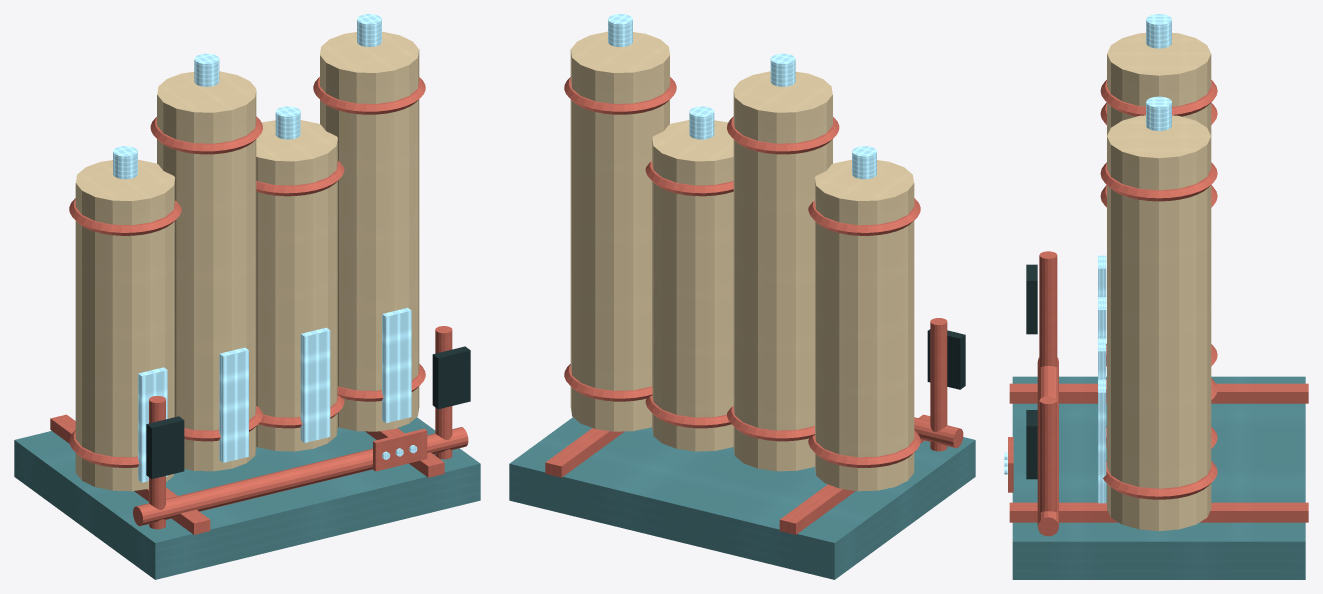
Rendered from atlas100-s072-a04.glb.
3 views of the same model, side by side, from view 1: azimuth 30°, elevation 25°; view 2: azimuth 150°, elevation 25°; view 3: azimuth 270°, elevation 25° (orthographic). The views are drawn at different scales.
Parts seen in each view (by area): view 1: atlas100-s072-a04:part-000, atlas100-s072-a04:part-018, atlas100-s072-a04:part-008, atlas100-s072-a04:part-003, atlas100-s072-a04:part-013, atlas100-s072-a04:part-027, atlas100-s072-a04:part-017, atlas100-s072-a04:part-022, atlas100-s072-a04:part-012, atlas100-s072-a04:part-024, atlas100-s072-a04:part-026, atlas100-s072-a04:part-007 (+17 smaller); view 2: atlas100-s072-a04:part-000, atlas100-s072-a04:part-008, atlas100-s072-a04:part-018, atlas100-s072-a04:part-003, atlas100-s072-a04:part-013, atlas100-s072-a04:part-023, atlas100-s072-a04:part-001, atlas100-s072-a04:part-002, atlas100-s072-a04:part-010, atlas100-s072-a04:part-020, atlas100-s072-a04:part-005, atlas100-s072-a04:part-004 (+10 smaller); view 3: atlas100-s072-a04:part-018, atlas100-s072-a04:part-000, atlas100-s072-a04:part-008, atlas100-s072-a04:part-002, atlas100-s072-a04:part-001, atlas100-s072-a04:part-025, atlas100-s072-a04:part-023, atlas100-s072-a04:part-027, atlas100-s072-a04:part-020, atlas100-s072-a04:part-019, atlas100-s072-a04:part-010, atlas100-s072-a04:part-022 (+4 smaller).
Boxes of the visible parts, x1=… form: atlas100-s072-a04:part-000: x1=14, y1=417, x2=480, y2=579; atlas100-s072-a04:part-018: x1=320, y1=31, x2=419, y2=431; atlas100-s072-a04:part-008: x1=157, y1=71, x2=256, y2=471; atlas100-s072-a04:part-003: x1=75, y1=159, x2=174, y2=491; atlas100-s072-a04:part-013: x1=256, y1=120, x2=337, y2=451; atlas100-s072-a04:part-027: x1=133, y1=427, x2=468, y2=525; atlas100-s072-a04:part-017: x1=300, y1=327, x2=330, y2=442; atlas100-s072-a04:part-022: x1=382, y1=307, x2=411, y2=423; atlas100-s072-a04:part-012: x1=219, y1=347, x2=248, y2=462; atlas100-s072-a04:part-024: x1=146, y1=416, x2=184, y2=478; atlas100-s072-a04:part-026: x1=432, y1=346, x2=470, y2=409; atlas100-s072-a04:part-007: x1=138, y1=367, x2=167, y2=482; atlas100-s072-a04:part-000: x1=509, y1=417, x2=975, y2=579; atlas100-s072-a04:part-008: x1=733, y1=71, x2=832, y2=471; atlas100-s072-a04:part-018: x1=570, y1=31, x2=669, y2=431; atlas100-s072-a04:part-003: x1=815, y1=159, x2=914, y2=491; atlas100-s072-a04:part-013: x1=652, y1=120, x2=733, y2=451; atlas100-s072-a04:part-023: x1=930, y1=318, x2=947, y2=451; atlas100-s072-a04:part-001: x1=779, y1=414, x2=930, y2=534; atlas100-s072-a04:part-002: x1=545, y1=428, x2=624, y2=477; atlas100-s072-a04:part-010: x1=727, y1=116, x2=839, y2=154; atlas100-s072-a04:part-020: x1=564, y1=77, x2=676, y2=114; atlas100-s072-a04:part-005: x1=808, y1=198, x2=920, y2=235; atlas100-s072-a04:part-004: x1=808, y1=430, x2=920, y2=467; atlas100-s072-a04:part-018: x1=1107, y1=115, x2=1211, y2=531; atlas100-s072-a04:part-000: x1=1012, y1=376, x2=1305, y2=579; atlas100-s072-a04:part-008: x1=1107, y1=32, x2=1211, y2=135; atlas100-s072-a04:part-002: x1=1009, y1=502, x2=1308, y2=522; atlas100-s072-a04:part-001: x1=1009, y1=383, x2=1308, y2=403; atlas100-s072-a04:part-025: x1=1039, y1=396, x2=1057, y2=533; atlas100-s072-a04:part-023: x1=1039, y1=251, x2=1057, y2=367; atlas100-s072-a04:part-027: x1=1037, y1=357, x2=1058, y2=536; atlas100-s072-a04:part-020: x1=1100, y1=162, x2=1217, y2=201; atlas100-s072-a04:part-019: x1=1103, y1=461, x2=1217, y2=499; atlas100-s072-a04:part-010: x1=1100, y1=80, x2=1217, y2=116; atlas100-s072-a04:part-022: x1=1098, y1=379, x2=1106, y2=503.
Bounding box in the file's own units: 2.52 × 3.1 × 1.87.
Materials: 5 (5 with a texture image).
